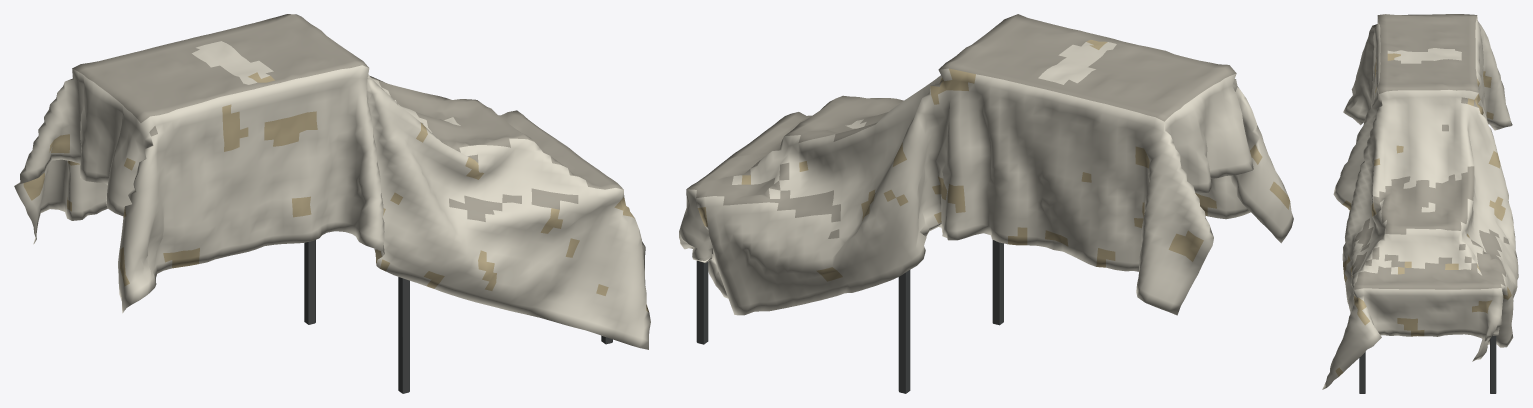
Rendered from canvas_drape_b.glb.
3 renders of one model, left to right at view 1: azimuth 30°, elevation 25°; view 2: azimuth 150°, elevation 25°; view 3: azimuth 270°, elevation 25°, orthographic. The views are drawn at different scales.
Visible parts, largest first — view 1: tuch, tbein, tbein.001; view 2: tuch, tbein.001, tbein.003, tbein; view 3: tuch, tbein.003, tbein.002.
Part boxes in pixels (x1,y1,x2,y2): tuch: (14, 14, 650, 349); tbein: (398, 277, 409, 393); tbein.001: (304, 240, 315, 324); tuch: (679, 14, 1293, 315); tbein.001: (898, 270, 910, 393); tbein.003: (696, 260, 708, 344); tbein: (992, 240, 1003, 325); tuch: (1322, 14, 1518, 389); tbein.003: (1490, 335, 1496, 393); tbein.002: (1359, 352, 1365, 393).
Bounding box in the file's own units: 2.75 × 1.58 × 1.23.
